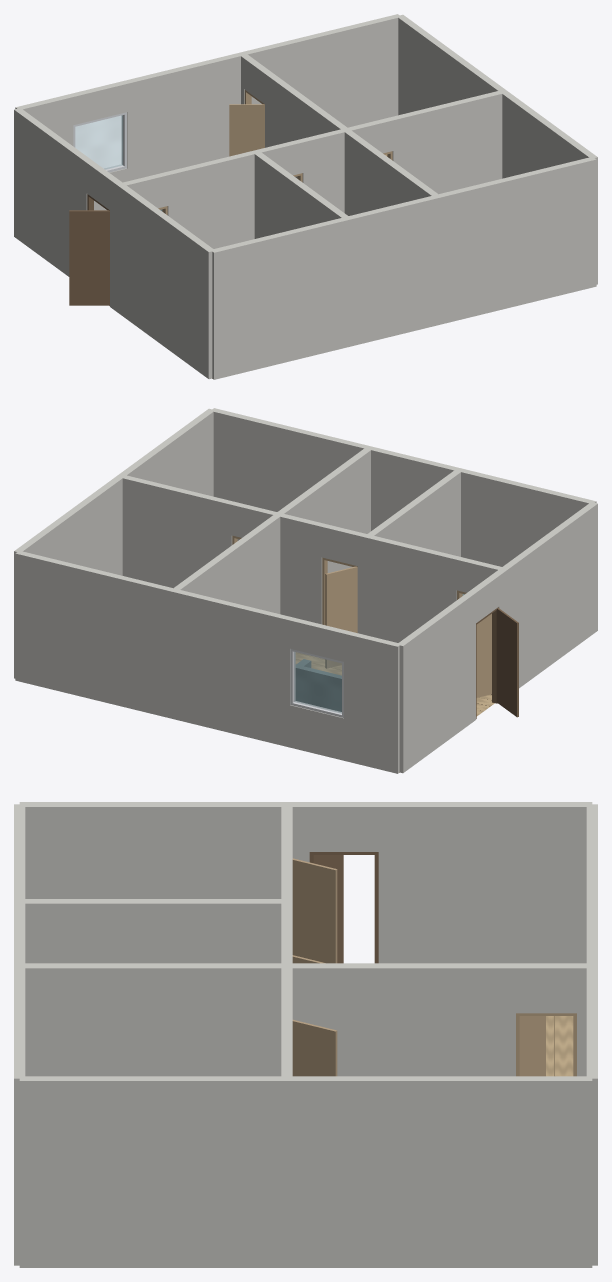
The model's file is floor-export.glb.
3 views of the same model, one above another, from view 1: azimuth 30°, elevation 25°; view 2: azimuth 150°, elevation 25°; view 3: azimuth 270°, elevation 25° (orthographic). The views are drawn at different scales.
Visible parts, largest first — view 1: Two-bedroom apartment, Entrance, Window, Interior door; view 2: Two-bedroom apartment, Interior door (×2), Window, Entrance, Sofa, Living room; view 3: Two-bedroom apartment, Interior door (×3), Entrance, Living room.
Part boxes in pixels (left/top/right/bottom): Two-bedroom apartment: left=14, top=14, right=597, bottom=379; Entrance: left=69, top=194, right=109, bottom=305; Window: left=73, top=112, right=126, bottom=172; Interior door: left=229, top=90, right=264, bottom=156; Two-bedroom apartment: left=14, top=408, right=597, bottom=773; Interior door (×2): left=322, top=557, right=491, bottom=697; Window: left=290, top=649, right=343, bottom=717; Entrance: left=476, top=607, right=518, bottom=718; Sofa: left=295, top=659, right=341, bottom=711; Living room: left=295, top=652, right=494, bottom=772; Two-bedroom apartment: left=14, top=802, right=597, bottom=1267; Interior door (×3): left=292, top=858, right=576, bottom=1076; Entrance: left=309, top=852, right=378, bottom=963; Living room: left=546, top=1016, right=573, bottom=1076.
Bounding box in the file's own units: 9.32 × 2.71 × 7.65.
11 materials, 2 textured.
